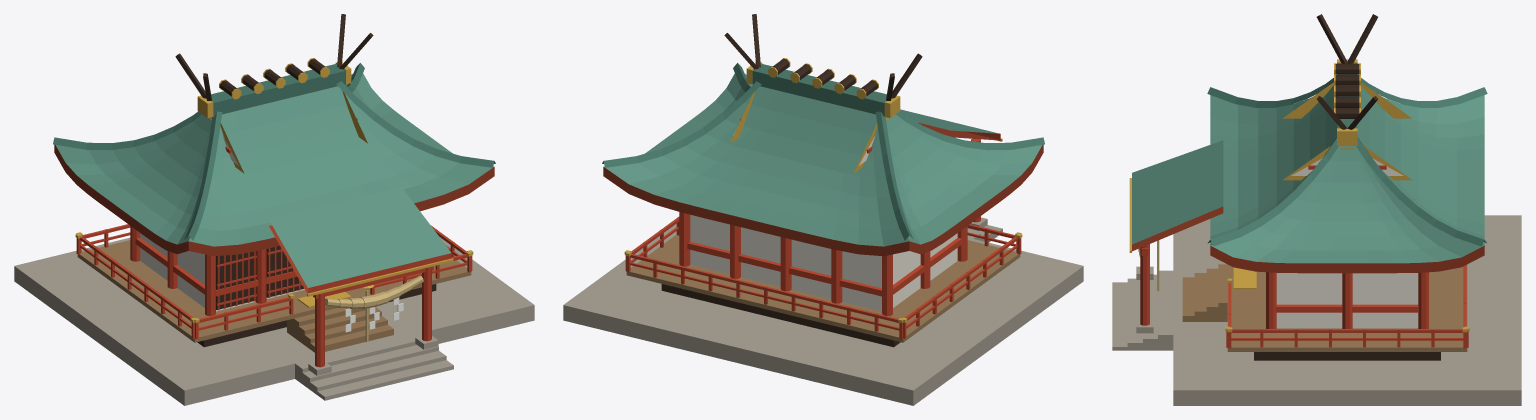
The model's file is shrine.glb.
3 views of the same model, side by side, from view 1: azimuth 30°, elevation 25°; view 2: azimuth 150°, elevation 25°; view 3: azimuth 270°, elevation 25° (orthographic). The views are drawn at different scales.
Visible parts, largest first — view 1: Shrine_static; view 2: Shrine_static; view 3: Shrine_static.
Part boxes in pixels (x1,y1,x2,y2): Shrine_static: (14,14,534,405); Shrine_static: (563,14,1083,405); Shrine_static: (1112,14,1521,405).
Bounding box in the file's own units: 19 × 13.33 × 18.8.
